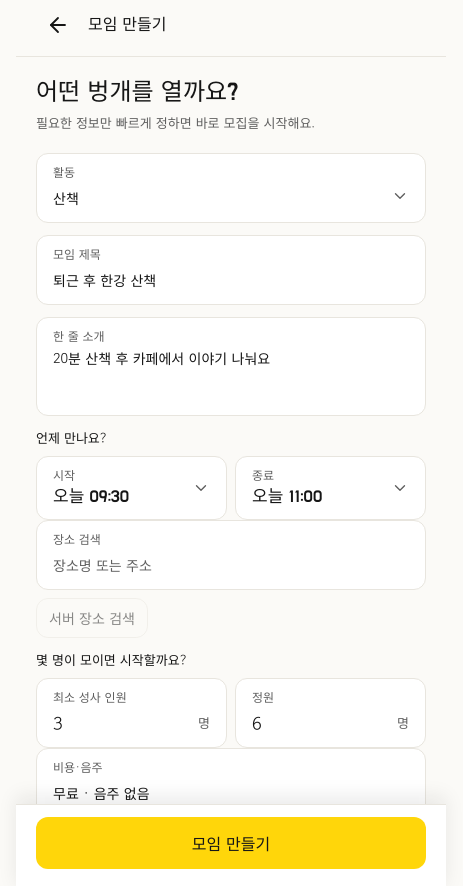
Test: NewMeetupPage authenticated place and creation regressions › does not create without both a selected provider venue and public-place confirmation
The width and height of the screenshot is (463, 886).
Type "한강" into the field labelled "장소 검색". click: coordinates (231, 565)
box: [53, 551, 409, 579]
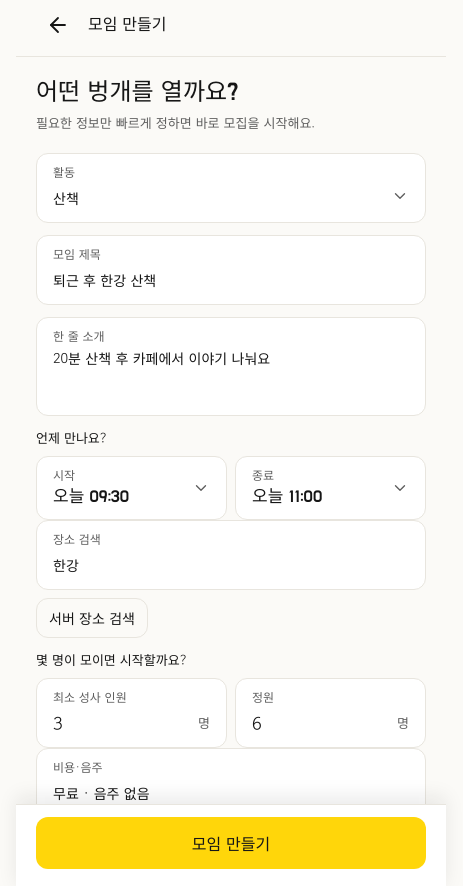
Click the button "서버 장소 검색". click: coordinates (92, 618)
box: [36, 598, 148, 638]
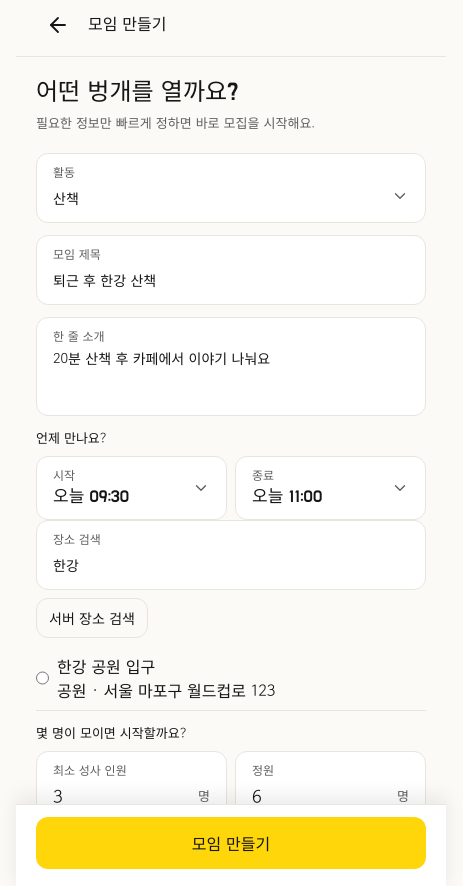
Expected: the radio button labelled "한강 공원 입구" is shown, [36, 654, 49, 702]
Click the button "모임 만들기". click: coordinates (231, 843)
box: [36, 817, 426, 869]
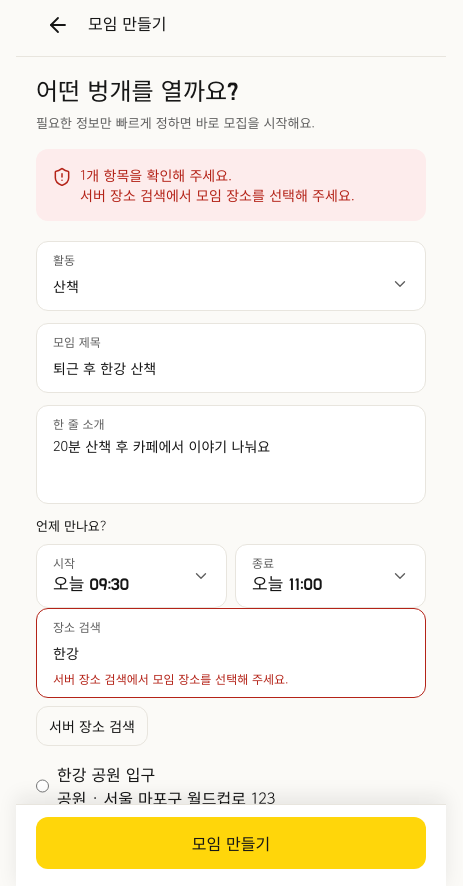
Expected: the text "서버 장소 검색에서 모임 장소를 선택해 주세요." below "1개 항목을 확인해 주세요." is shown, [80, 185, 355, 205]
Click the radio button labelled "한강 공원 입구". click: coordinates (42, 786)
box: [36, 762, 49, 810]
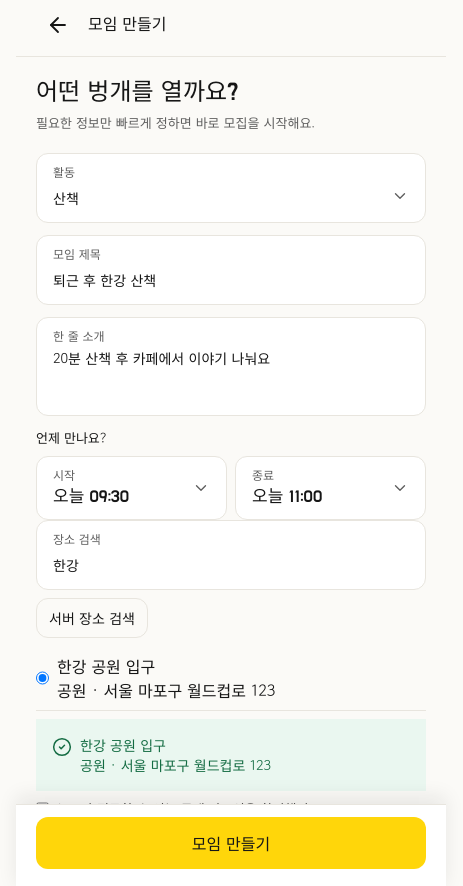
Expected: the text "서버 장소 검색에서 모임 장소를 선택해 주세요." is gone
Click the button "모임 만들기". click: coordinates (231, 843)
box: [36, 817, 426, 869]
(page scrolled)
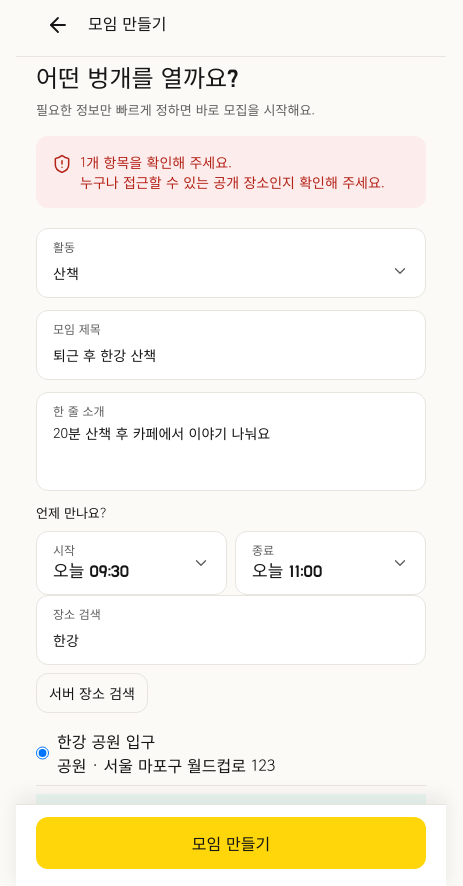
Expected: the text "누구나 접근할 수 있는 공개 장소인지 확인해 주세요." is shown, [80, 172, 385, 192]
